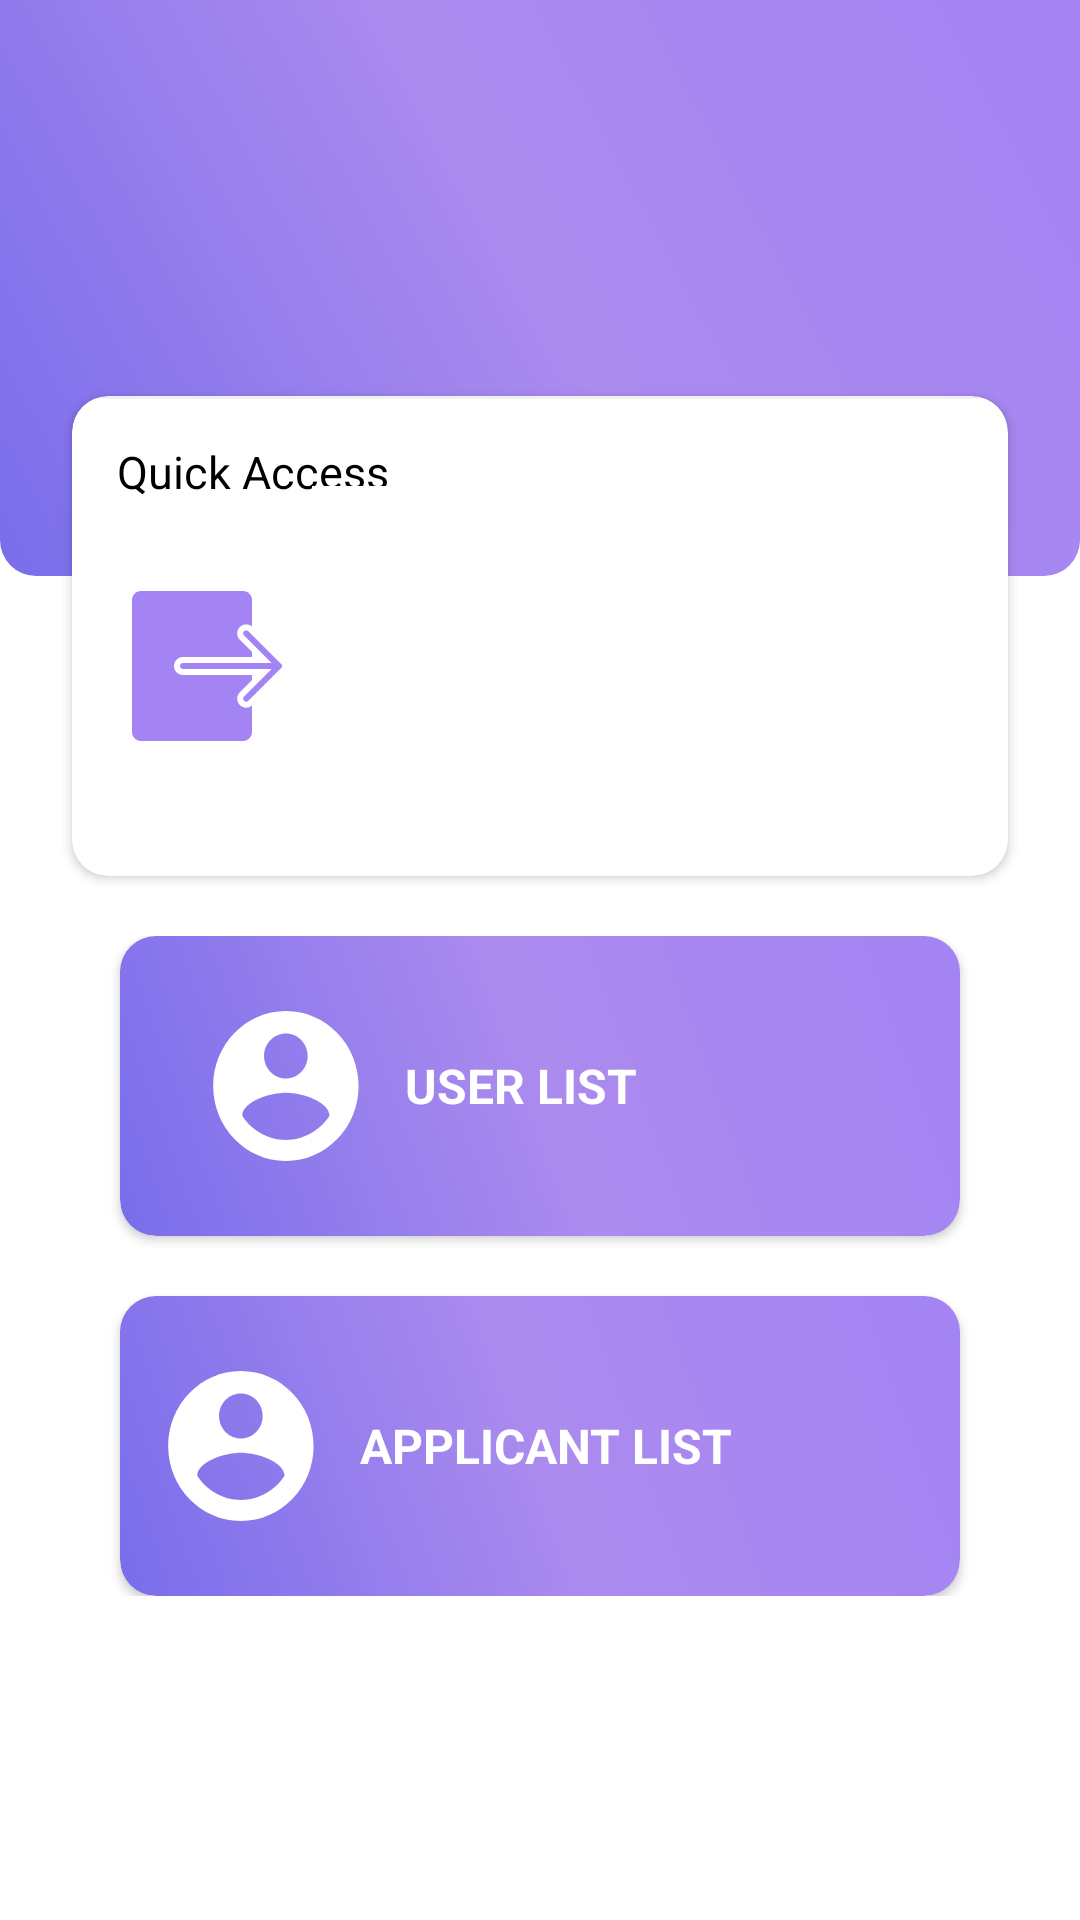

Icon bounding boxes for this 1080px×1920px phone screenshot, format (x1, y1, x2, y2):
circle account: (213, 1011, 359, 1161), (168, 1371, 314, 1521)
